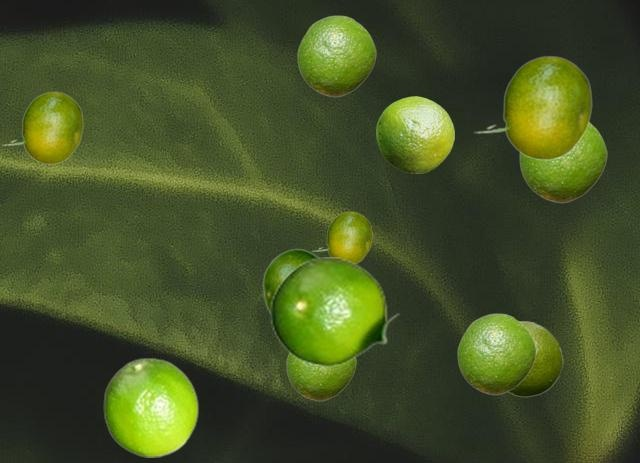calamansi: (269, 257, 400, 366), (473, 55, 591, 159), (103, 357, 198, 456), (519, 122, 606, 202), (297, 15, 375, 96), (457, 313, 535, 394), (376, 96, 453, 172), (1, 91, 82, 163), (508, 320, 562, 396), (262, 248, 318, 312), (286, 353, 355, 400), (311, 211, 371, 262)
